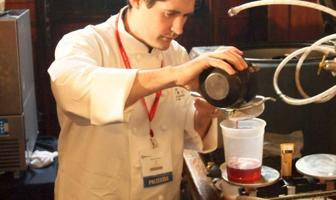person: (48, 1, 250, 199)
